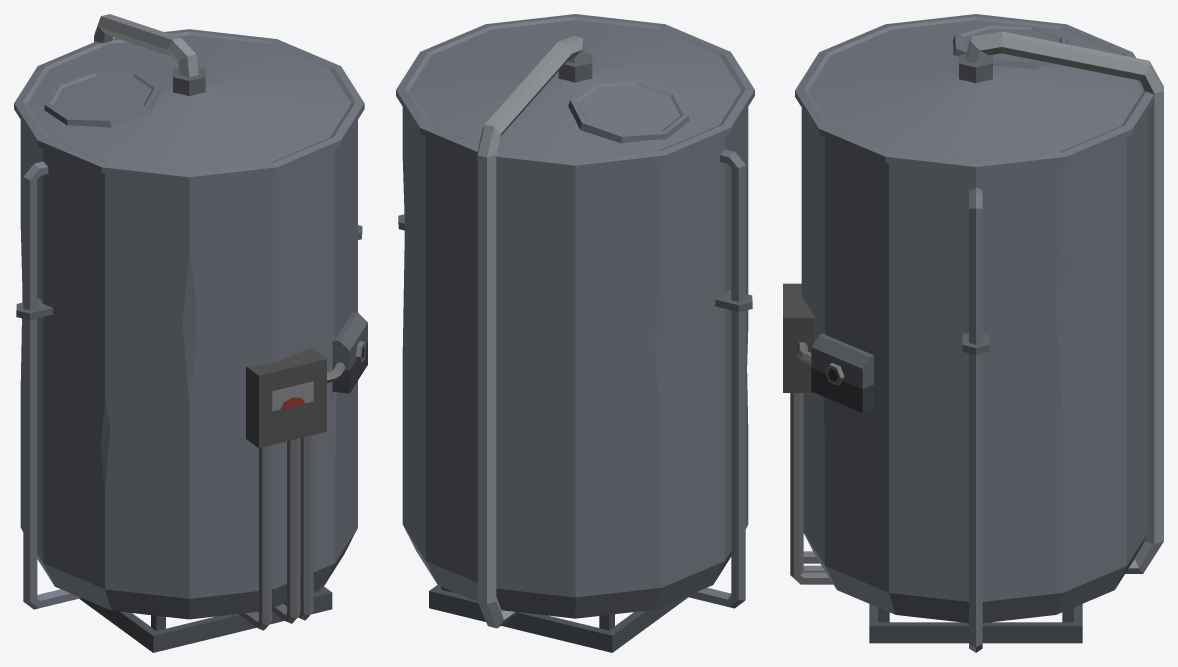
File: SM_Prop_Lab_Tank_01.obj
3 renders of one model, left to right at view 1: azimuth 30°, elevation 25°; view 2: azimuth 150°, elevation 25°; view 3: azimuth 270°, elevation 25°, orthographic. The views are drawn at different scales.
Parts seen in each view (by area): view 1: SM_Prop_Lab_Tank_01_0; view 2: SM_Prop_Lab_Tank_01_0; view 3: SM_Prop_Lab_Tank_01_0.
Part boxes in pixels (x1,y1,x2,y2): SM_Prop_Lab_Tank_01_0: (14,14,367,652); SM_Prop_Lab_Tank_01_0: (396,14,754,652); SM_Prop_Lab_Tank_01_0: (783,14,1163,652).
Bounding box in the file's own units: 1.37 × 2.07 × 1.27.
1 material, 1 textured.
